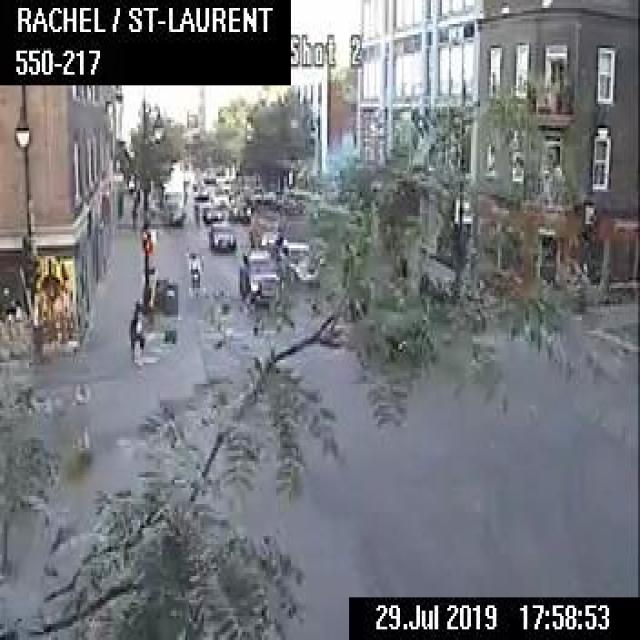pedestrian: (126, 293, 146, 363), (185, 246, 200, 294)
vehicle: (238, 246, 282, 304), (276, 237, 317, 285), (248, 205, 281, 245), (208, 219, 234, 250), (202, 200, 224, 218), (192, 183, 208, 199)
